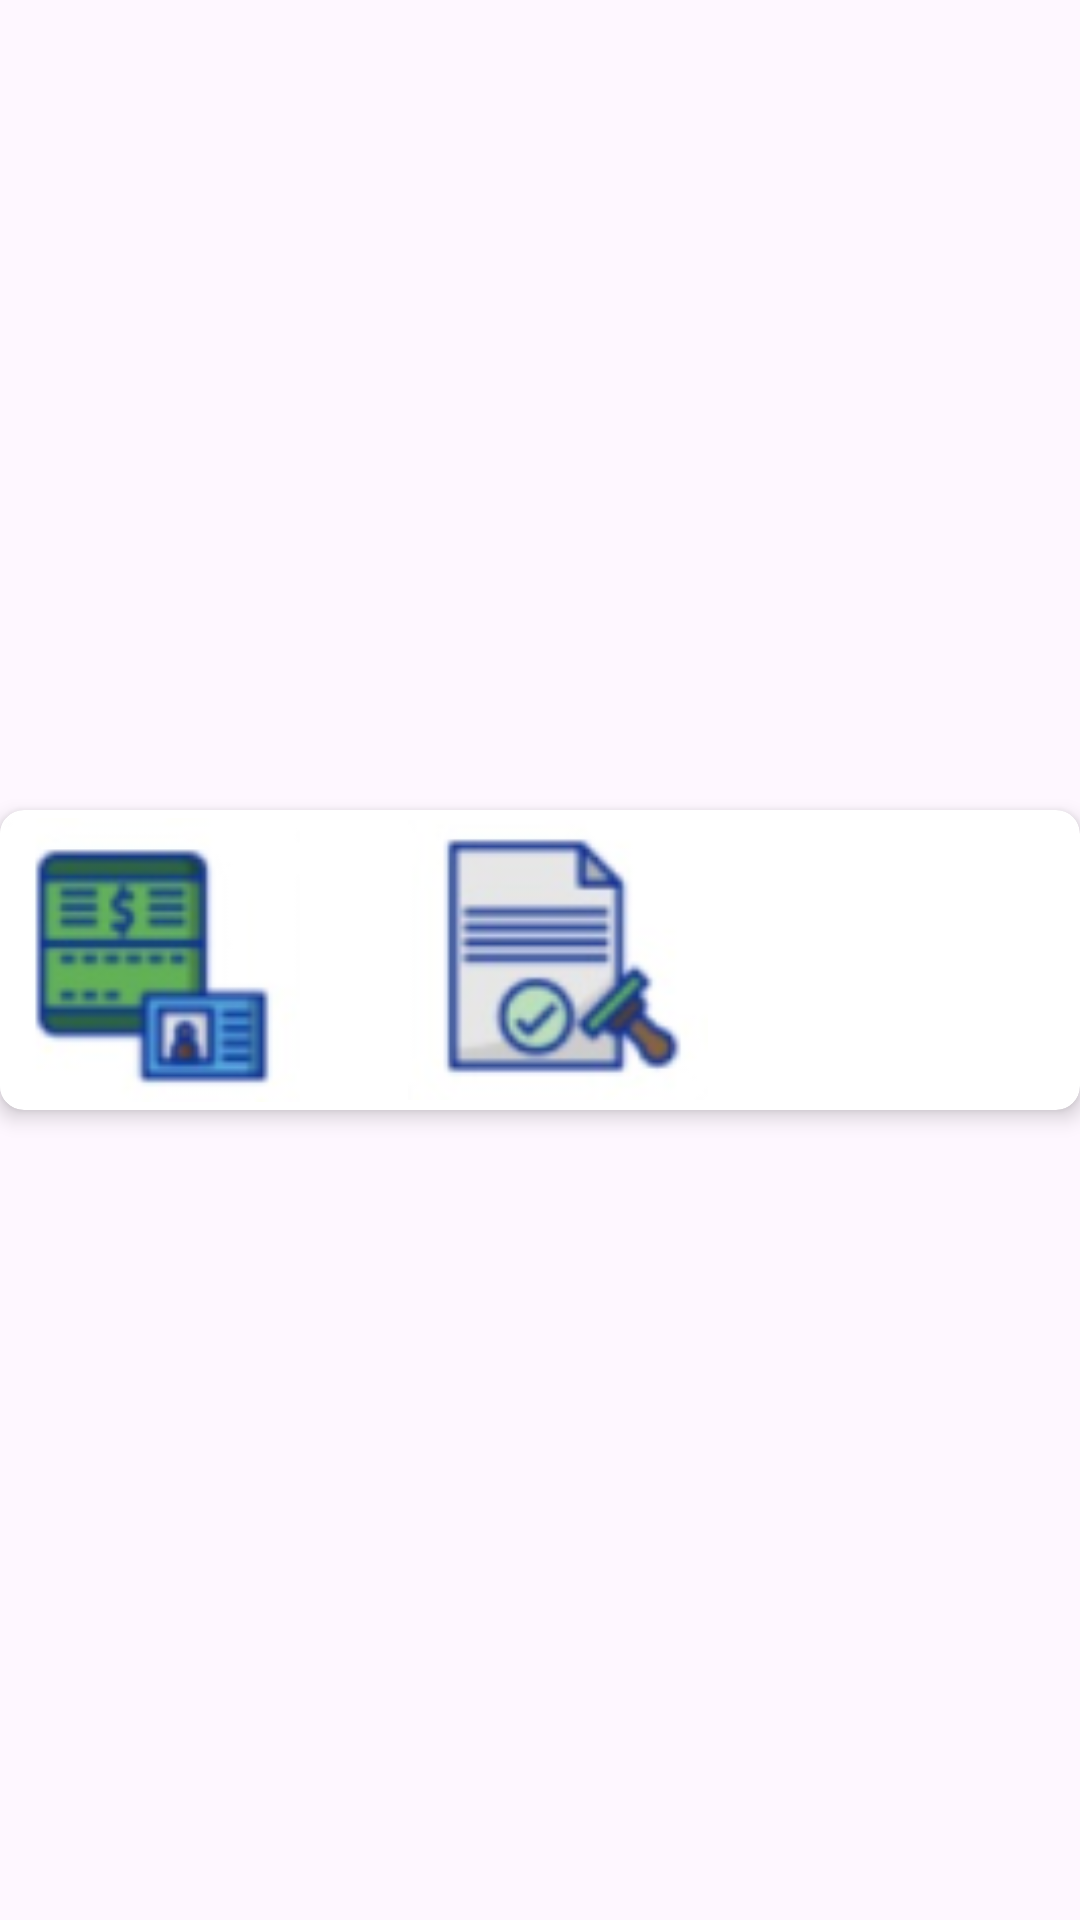

Where icons sit on this 1080x1920 app screen, as {"x1": x1, "y1": y1, "x2": x2, "y2": y2}:
bank account: {"x1": 0, "y1": 812, "x2": 270, "y2": 1084}
